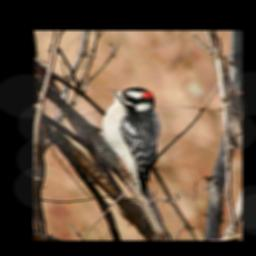Woodpecker: (97, 87, 160, 201)
